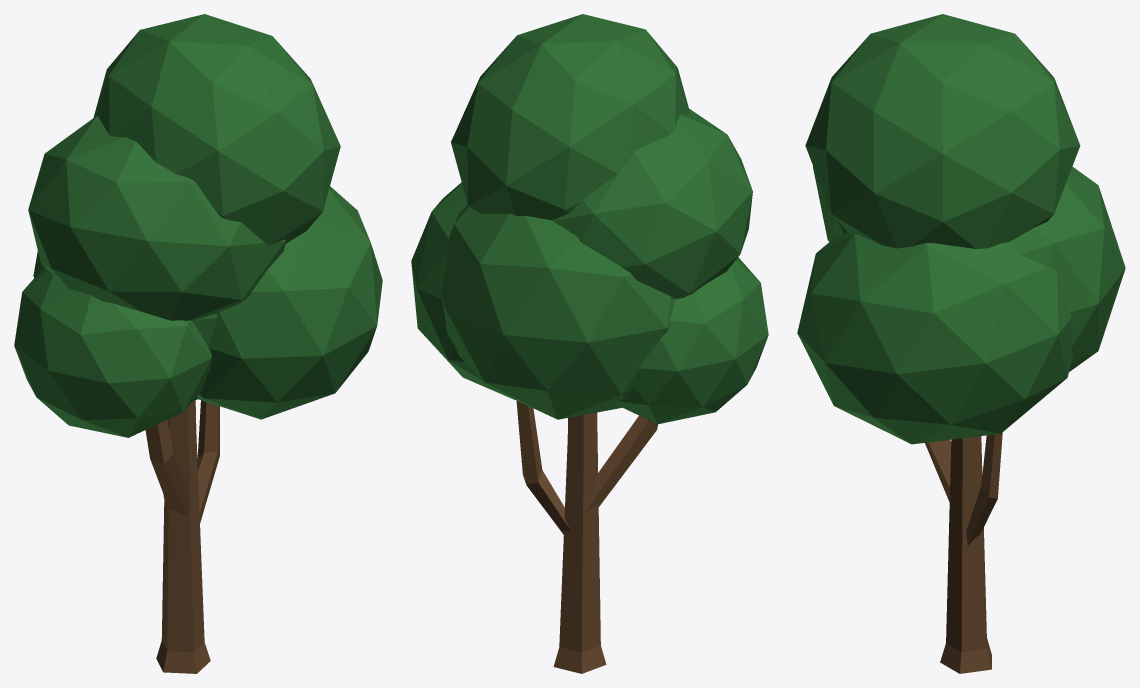
The model's file is tree-maple.glb.
3 views of the same model, side by side, from view 1: azimuth 30°, elevation 25°; view 2: azimuth 150°, elevation 25°; view 3: azimuth 270°, elevation 25° (orthographic). The views are drawn at different scales.
Visible parts, largest first — view 1: tree-maple; view 2: tree-maple; view 3: tree-maple.
Part boxes in pixels (x1=…): tree-maple: x1=14, y1=14, x2=382, y2=673; tree-maple: x1=411, y1=14, x2=768, y2=673; tree-maple: x1=797, y1=14, x2=1125, y2=673.
Size of the model in its own units: 3.77 by 6.99 by 3.27.
